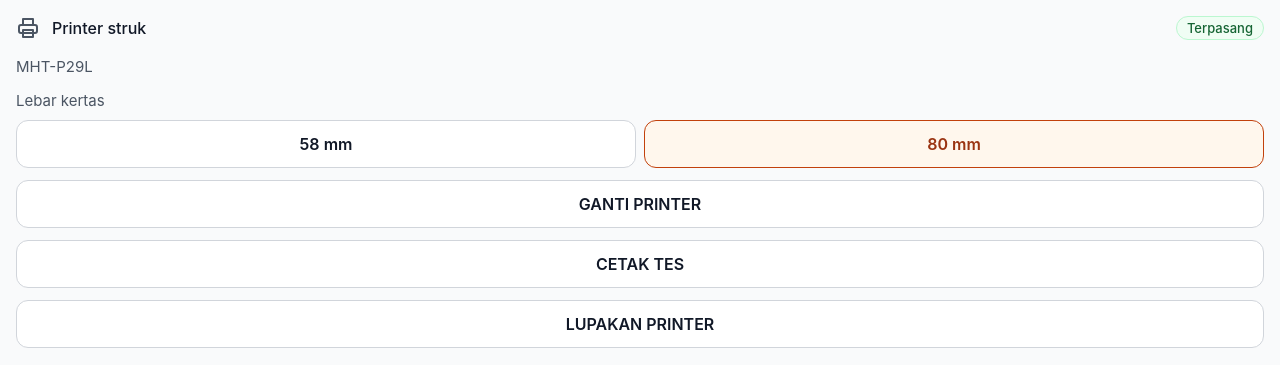
Test: PrinterPanel (Lainnya) › forgets the printer but keeps the paper width
Click the button "LUPAKAN PRINTER": (640, 324) [16,300,1264,348]
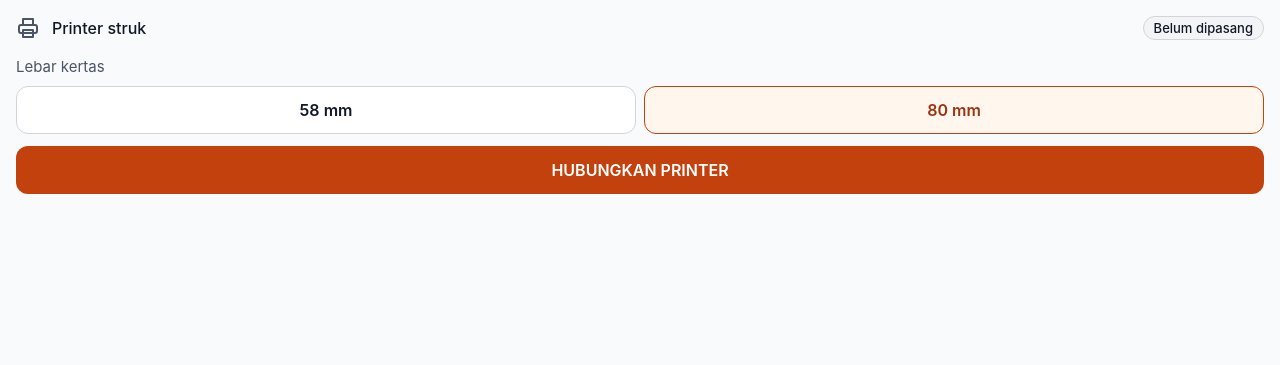
Now the text "Belum dipasang" is shown, box [1143,16,1264,40]
